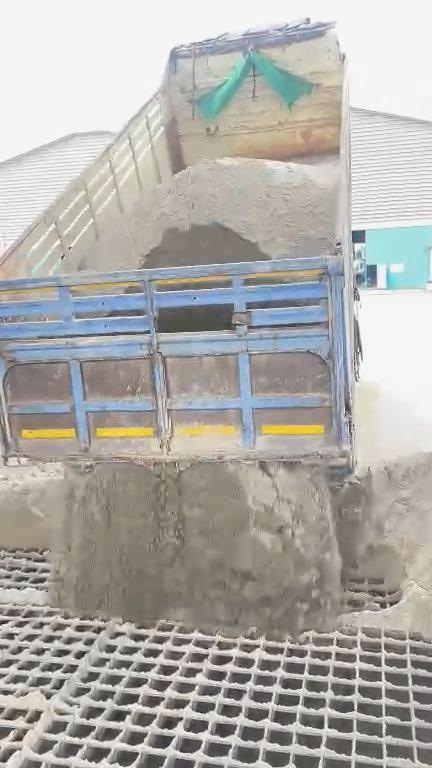sand: (1, 453, 432, 633), (79, 157, 345, 269), (1, 686, 46, 713), (1, 587, 47, 606)
